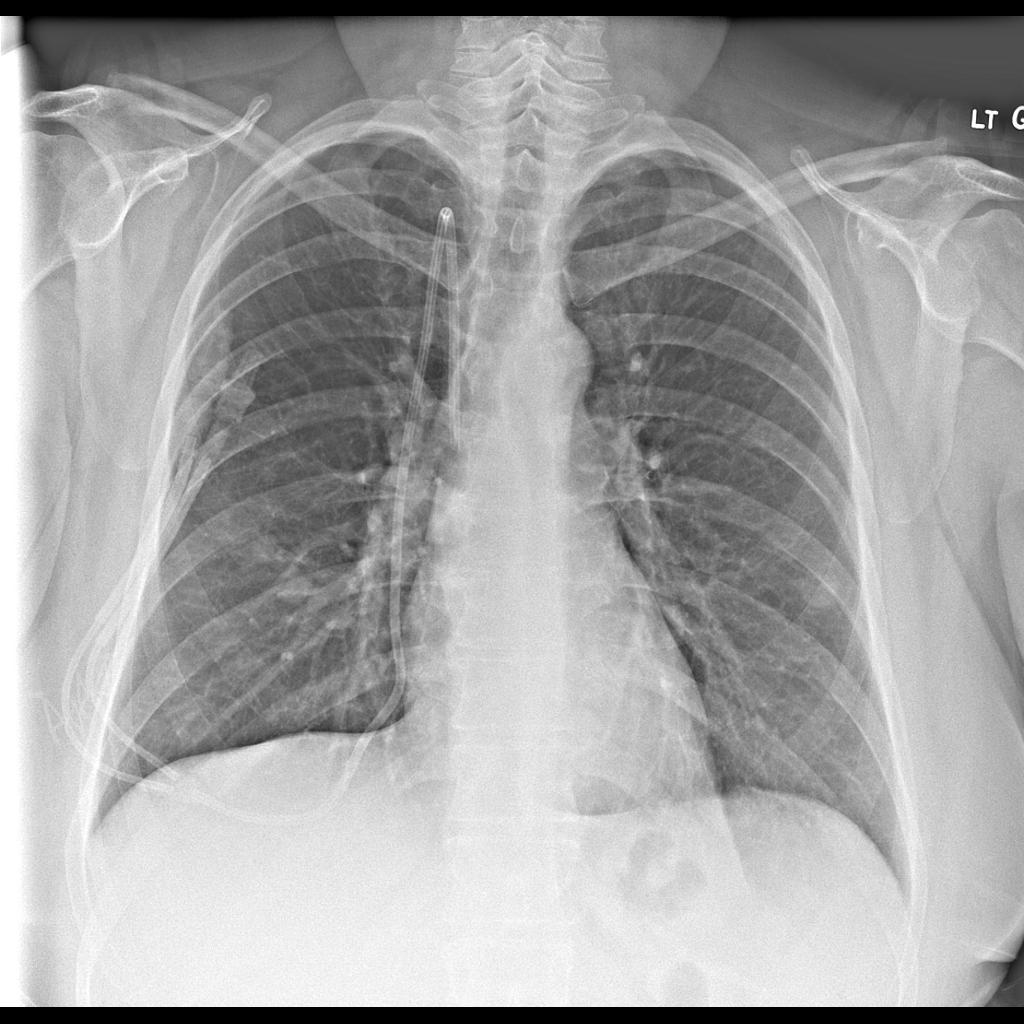Nodule: (802, 567, 852, 621), (273, 563, 318, 609)
